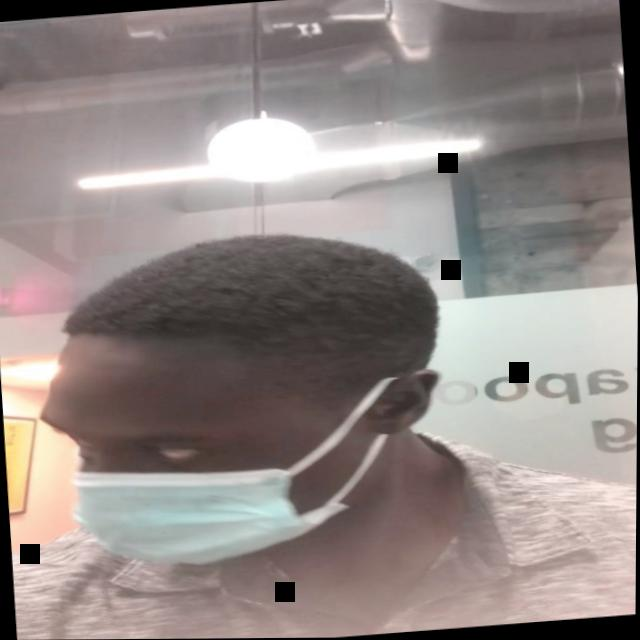Mask: (40, 315, 429, 574)
